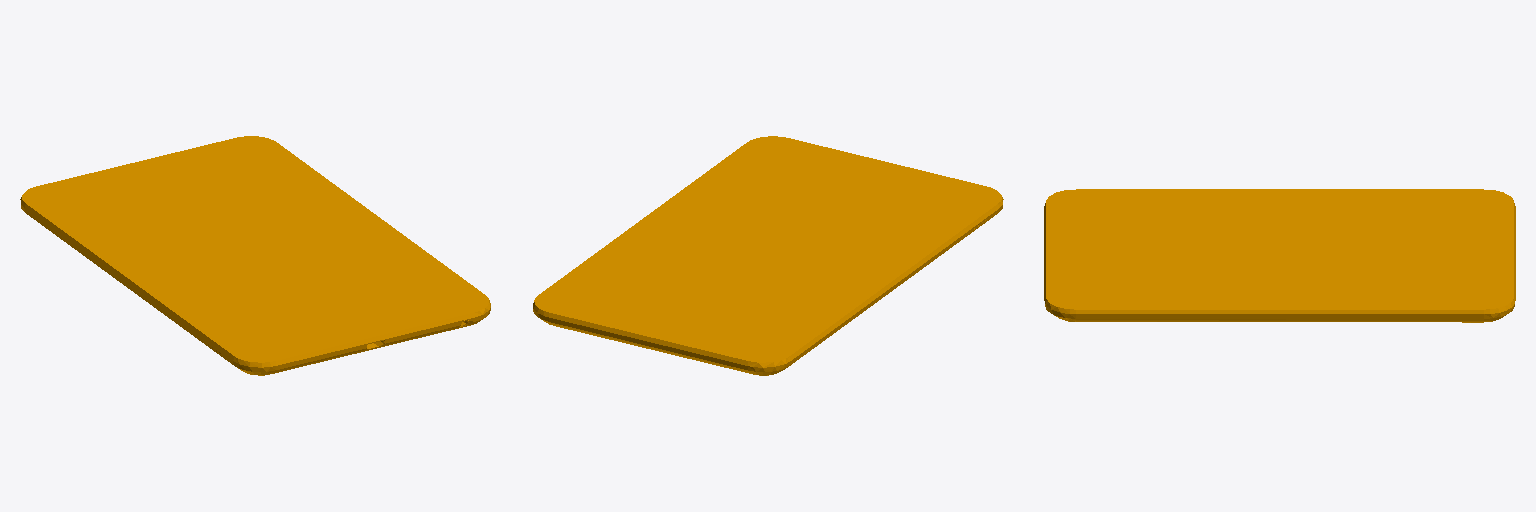
The robot description file, URDF, robot "nexus7":
<?xml version="1.0" ?>
<robot name="nexus7" xmlns:xacro="http://www.ros.org/wiki/xacro">
  <link name="base_link">
    <visual>
      <origin rpy="0 0 0" xyz="0 0 0"/>
      <geometry>
        <mesh filename="package://nexus7_description/meshes/nexus7.dae" scale="0.001 0.001 0.001"/>
      </geometry>
    </visual>
    <collision>
      <origin rpy="0 0 0" xyz="0 0 0"/>
      <geometry>
        <mesh filename="package://nexus7_description/meshes/nexus7.dae" scale="0.001 0.001 0.001"/>
      </geometry>
    </collision>
  </link>
</robot>

--- Render facts (derived) ---
3 views of the same robot in one strip: view 1: azimuth 30°, elevation 25°; view 2: azimuth 150°, elevation 25°; view 3: azimuth 270°, elevation 25° (orthographic).
Model nexus7 with 1 links and 0 joints (none), rooted at base_link, posed all joints at 0.
Visible links, largest first — view 1: base_link; view 2: base_link; view 3: base_link.
Boxes of the visible links, box(x1,y1,x2,y2) form: base_link: box(20, 136, 490, 375); base_link: box(533, 136, 1003, 375); base_link: box(1044, 189, 1515, 322).
Size in the robot's own frame: 0.1195 by 0.1958 by 0.0104 metres.
Meshes: 1 distinct files referenced, 1 mesh visuals loaded (1 Collada DAE).